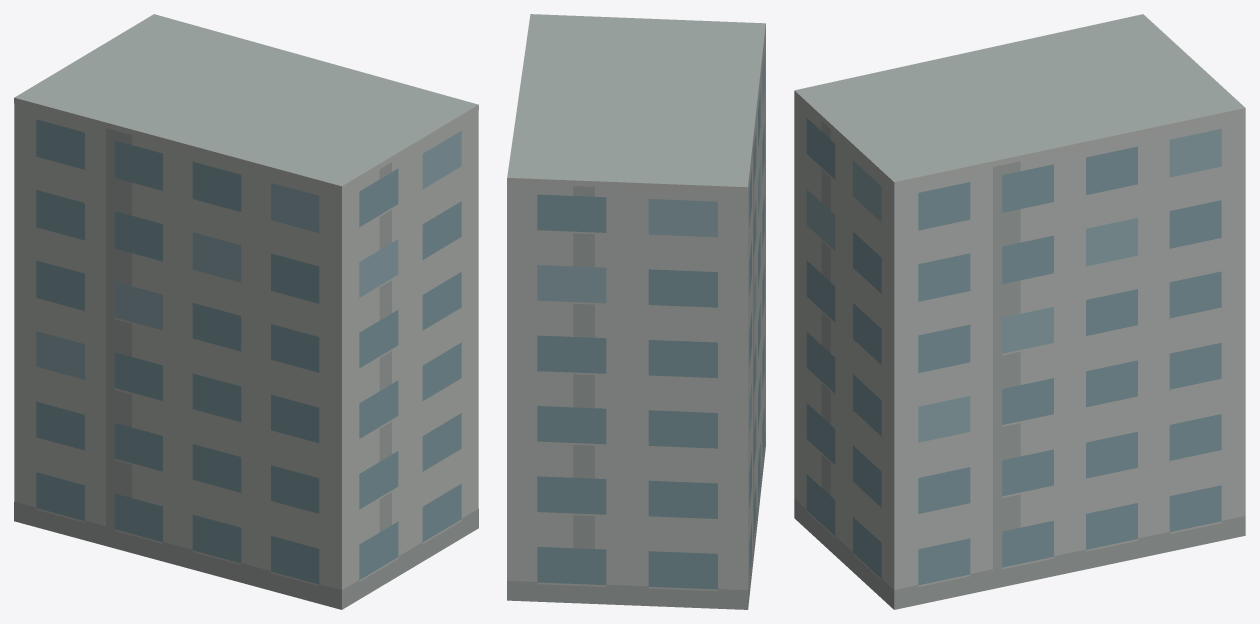
File: survey-upis-32809135.glb
The picture shows the model from 3 angles, left to right: view 1: azimuth 30°, elevation 25°; view 2: azimuth 150°, elevation 25°; view 3: azimuth 270°, elevation 25°; orthographic projection.
Visible parts, largest first — view 1: survey-upis-32809135.tmp; view 2: survey-upis-32809135.tmp; view 3: survey-upis-32809135.tmp.
Boxes of the visible parts, left/top/right/bottom form: survey-upis-32809135.tmp: left=14, top=14, right=478, bottom=609; survey-upis-32809135.tmp: left=507, top=14, right=765, bottom=609; survey-upis-32809135.tmp: left=794, top=14, right=1245, bottom=609.
Bounding box in the file's own units: 15.44 × 18.3 × 17.51.
